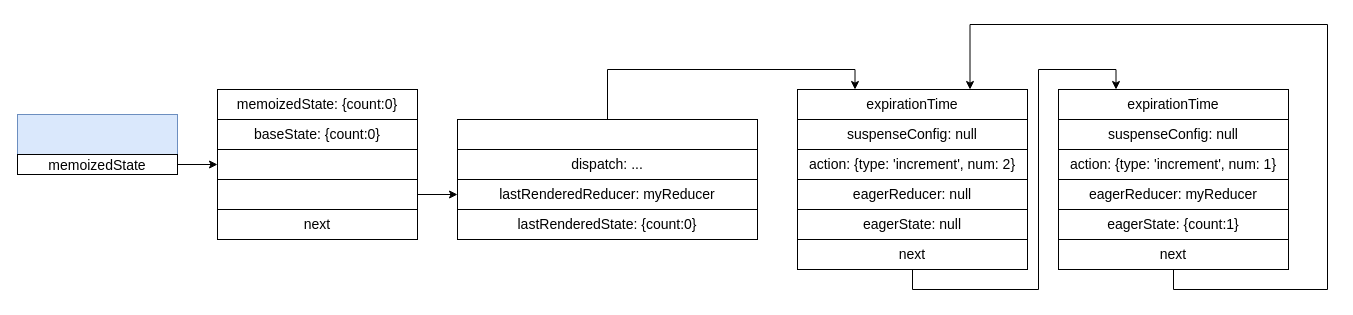
This 1353x315 diagram has some shape labels left out. Each missing label, with the box of its shape:
App: (16, 114, 178, 154)
baseQueue: null: (216, 148, 418, 180)
pending: (456, 118, 758, 150)
queue: (216, 178, 418, 210)
